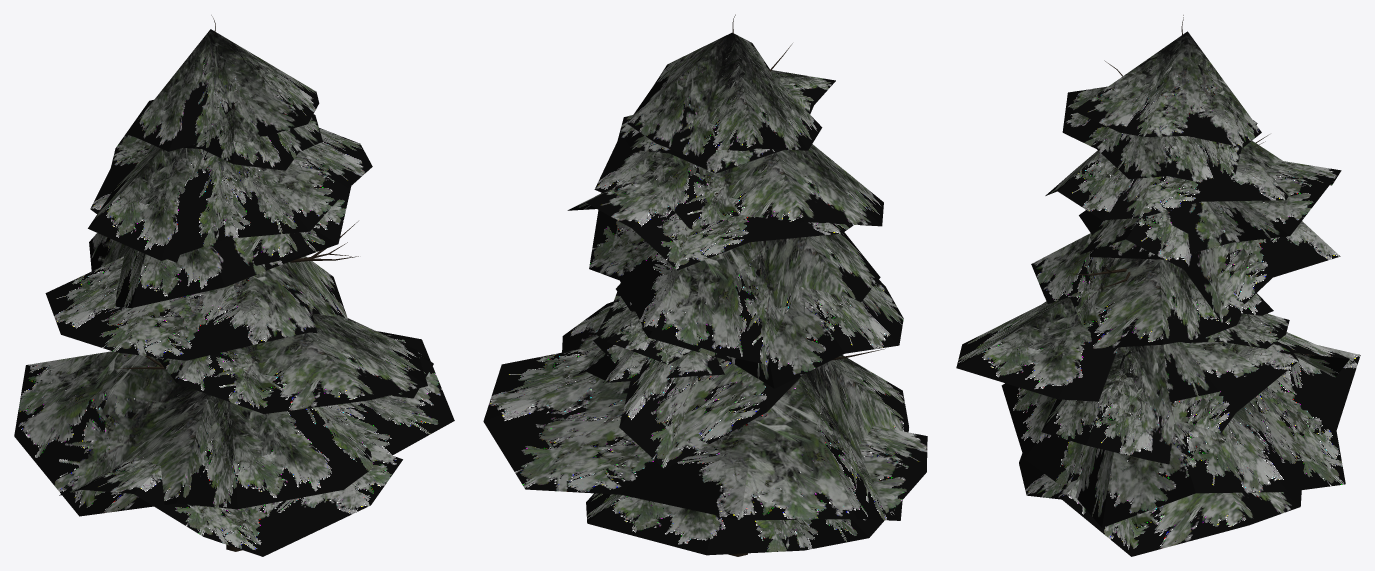
File: pine_tall.obj
3 views of the same model, side by side, from view 1: azimuth 30°, elevation 25°; view 2: azimuth 150°, elevation 25°; view 3: azimuth 270°, elevation 25° (orthographic). The views are drawn at different scales.
Parts seen in each view (by area): view 1: SnowBranchCircle, Trunk; view 2: SnowBranchCircle; view 3: SnowBranchCircle.
Boxes of the visible parts, x1=… form: SnowBranchCircle: x1=14, y1=29, x2=454, y2=556; Trunk: x1=115, y1=15, x2=358, y2=551; SnowBranchCircle: x1=483, y1=32, x2=927, y2=555; SnowBranchCircle: x1=956, y1=31, x2=1360, y2=556.
Size of the model in its own units: 0.3712 by 0.5 by 0.3552.
Materials: 2 (1 with a texture image).
